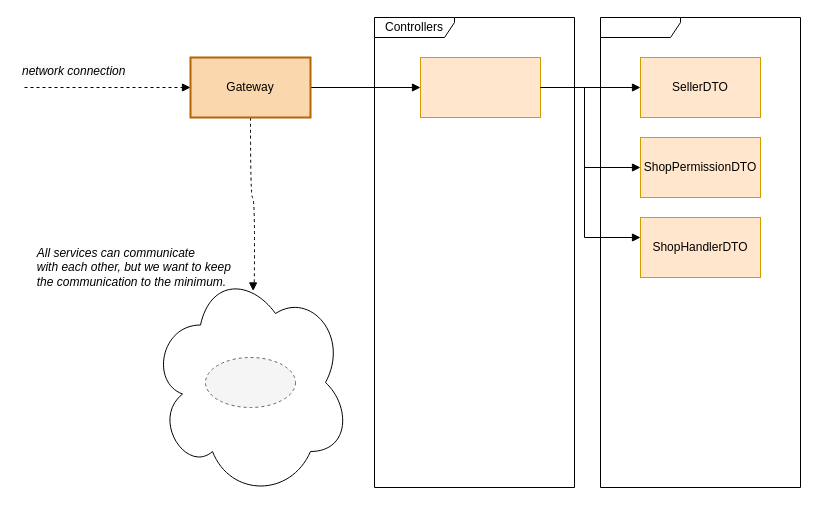
Some shapes in this 818 by 515 pixel diagram are drawn without their labels. The shapes that lost their labels are listed below. From the top down, each one's centre as x and y in pixels, then its label:
At point 480,87: "UserController".
At point 700,252: "Models".
At point 250,382: "Other Services".
